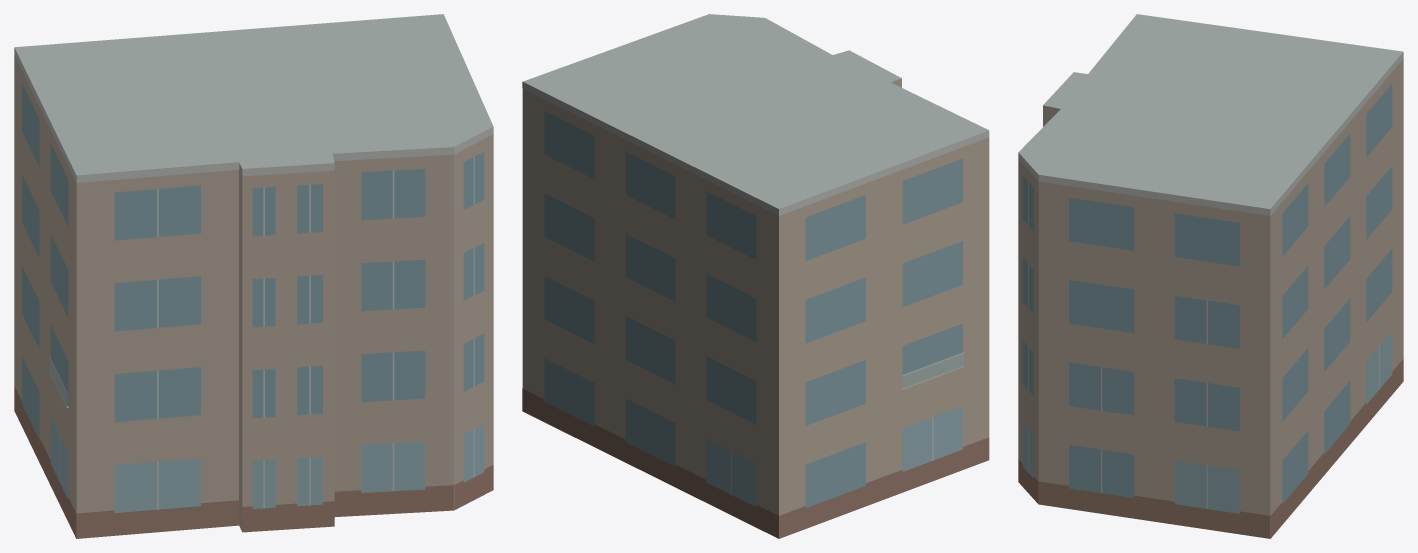
File: survey-upis-32878556.glb
The picture shows the model from 3 angles, left to right: view 1: azimuth 30°, elevation 25°; view 2: azimuth 150°, elevation 25°; view 3: azimuth 270°, elevation 25°; orthographic projection. The views are drawn at different scales.
Parts seen in each view (by area): view 1: survey-upis-32878556.tmp; view 2: survey-upis-32878556.tmp; view 3: survey-upis-32878556.tmp.
Part boxes in pixels (x1,y1,x2,y2): survey-upis-32878556.tmp: [14, 14, 493, 538]; survey-upis-32878556.tmp: [522, 14, 989, 538]; survey-upis-32878556.tmp: [1018, 14, 1403, 538].
Bounding box in the file's own units: 14.99 × 11.8 × 12.5.
